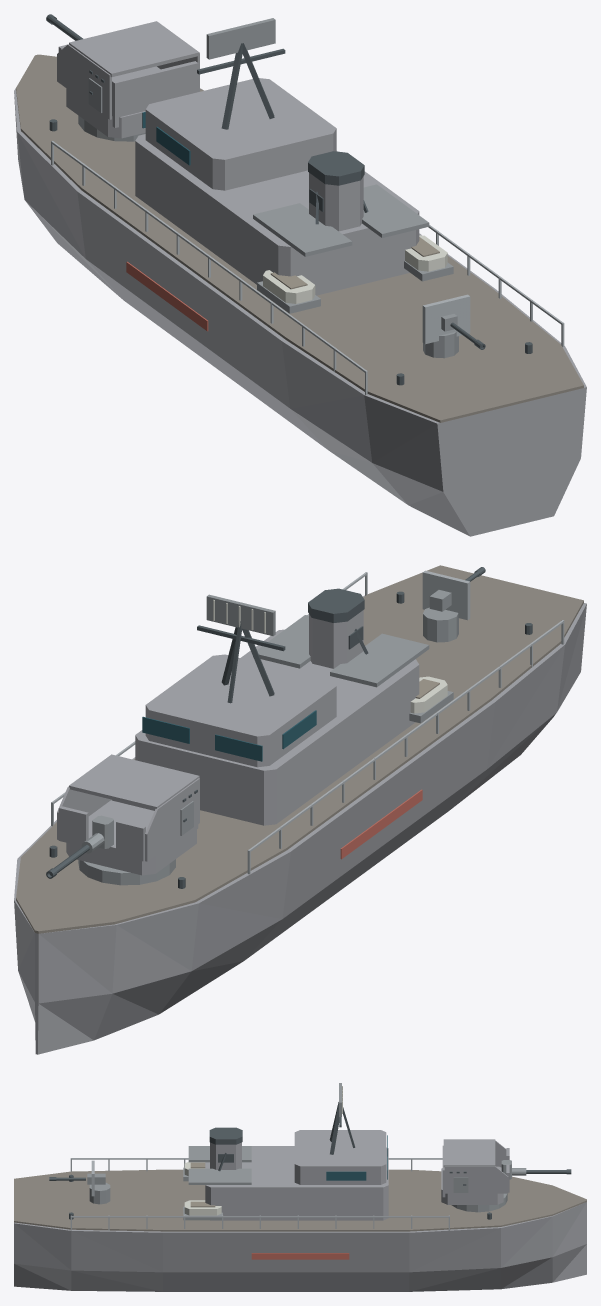
The model's file is ENE_Ww2Gunboat.fbx.
3 views of the same model, one above another, from view 1: azimuth 30°, elevation 25°; view 2: azimuth 150°, elevation 25°; view 3: azimuth 270°, elevation 25° (orthographic). The views are drawn at different scales.
Parts seen in each view (by area): view 1: HardChineHull, FittedDeck, LowDeckhouse, NavigationCabin, GunhouseRoof, RearBulkhead, EngineHatch, FunnelCasing, EngineHatch.001, GunhouseSide, PeriodRadarFrame, LowerGunhouse (+7 smaller); view 2: HardChineHull, FittedDeck, LowDeckhouse, NavigationCabin, GunhouseRoof, LowerGunhouse, EngineHatch, FunnelCasing, GunhouseSide, PeriodRadarFrame, EngineHatch.001, SootBlackCap (+11 smaller); view 3: HardChineHull, FittedDeck, LowDeckhouse, NavigationCabin, GunhouseSide.001, GunhouseRoof, EngineHatch.001, LowerGunhouse, TopRail.001, EnemyRecognitionBand.001, FunnelCasing, SootBlackCap (+6 smaller).
Boxes of the visible parts, box(x1,y1,x2,y2) form: HardChineHull: box(14, 88, 586, 536); FittedDeck: box(16, 54, 583, 422); LowDeckhouse: box(135, 134, 419, 295); NavigationCabin: box(145, 78, 336, 190); GunhouseRoof: box(69, 21, 199, 77); RearBulkhead: box(112, 61, 198, 127); EngineHatch: box(253, 203, 352, 256); FunnelCasing: box(309, 173, 363, 231); EngineHatch.001: box(362, 184, 429, 237); GunhouseSide: box(57, 44, 111, 119); PeriodRadarFrame: box(206, 18, 275, 59); LowerGunhouse: box(66, 66, 160, 138); HardChineHull: box(14, 595, 586, 1054); FittedDeck: box(16, 565, 583, 933); LowDeckhouse: box(135, 629, 419, 825); NavigationCabin: box(145, 654, 336, 767); GunhouseRoof: box(69, 754, 199, 809); LowerGunhouse: box(66, 800, 196, 875); EngineHatch: box(330, 633, 429, 687); FunnelCasing: box(309, 610, 363, 668); GunhouseSide: box(145, 778, 199, 861); PeriodRadarFrame: box(206, 594, 275, 635); EngineHatch.001: box(257, 615, 310, 668); SootBlackCap: box(308, 588, 364, 622); HardChineHull: box(14, 1202, 586, 1291); FittedDeck: box(14, 1169, 586, 1231); LowDeckhouse: box(205, 1146, 388, 1220); NavigationCabin: box(294, 1130, 386, 1184); GunhouseSide.001: box(444, 1166, 508, 1193); GunhouseRoof: box(443, 1139, 495, 1167); EngineHatch.001: box(188, 1168, 251, 1184); LowerGunhouse: box(441, 1166, 503, 1204); TopRail.001: box(72, 1216, 448, 1217); EnemyRecognitionBand.001: box(251, 1253, 349, 1259); FunnelCasing: box(210, 1142, 241, 1169); SootBlackCap: box(209, 1127, 242, 1144).
Bounding box in the file's own units: 220 × 294 × 840.
